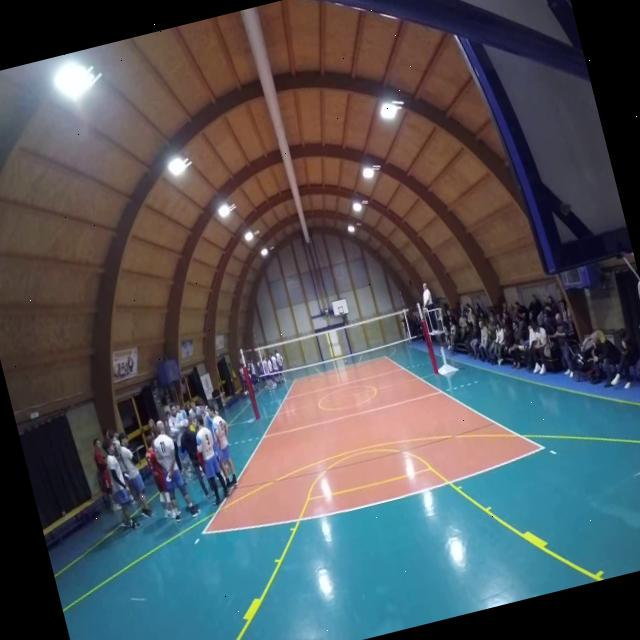Volleyball: (342, 357, 349, 365)
